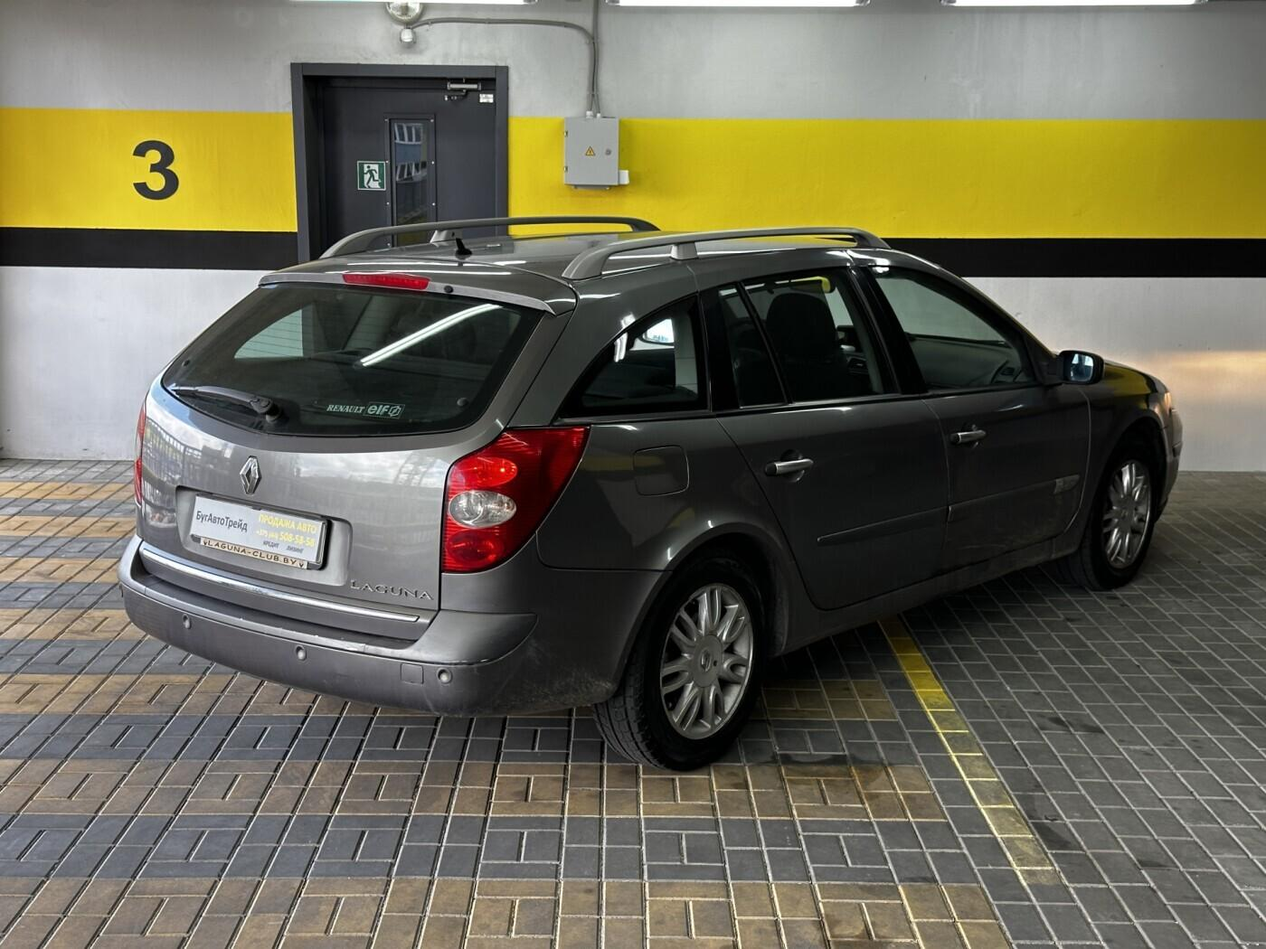Laguna_2005-2007: (109, 201, 1178, 781)
